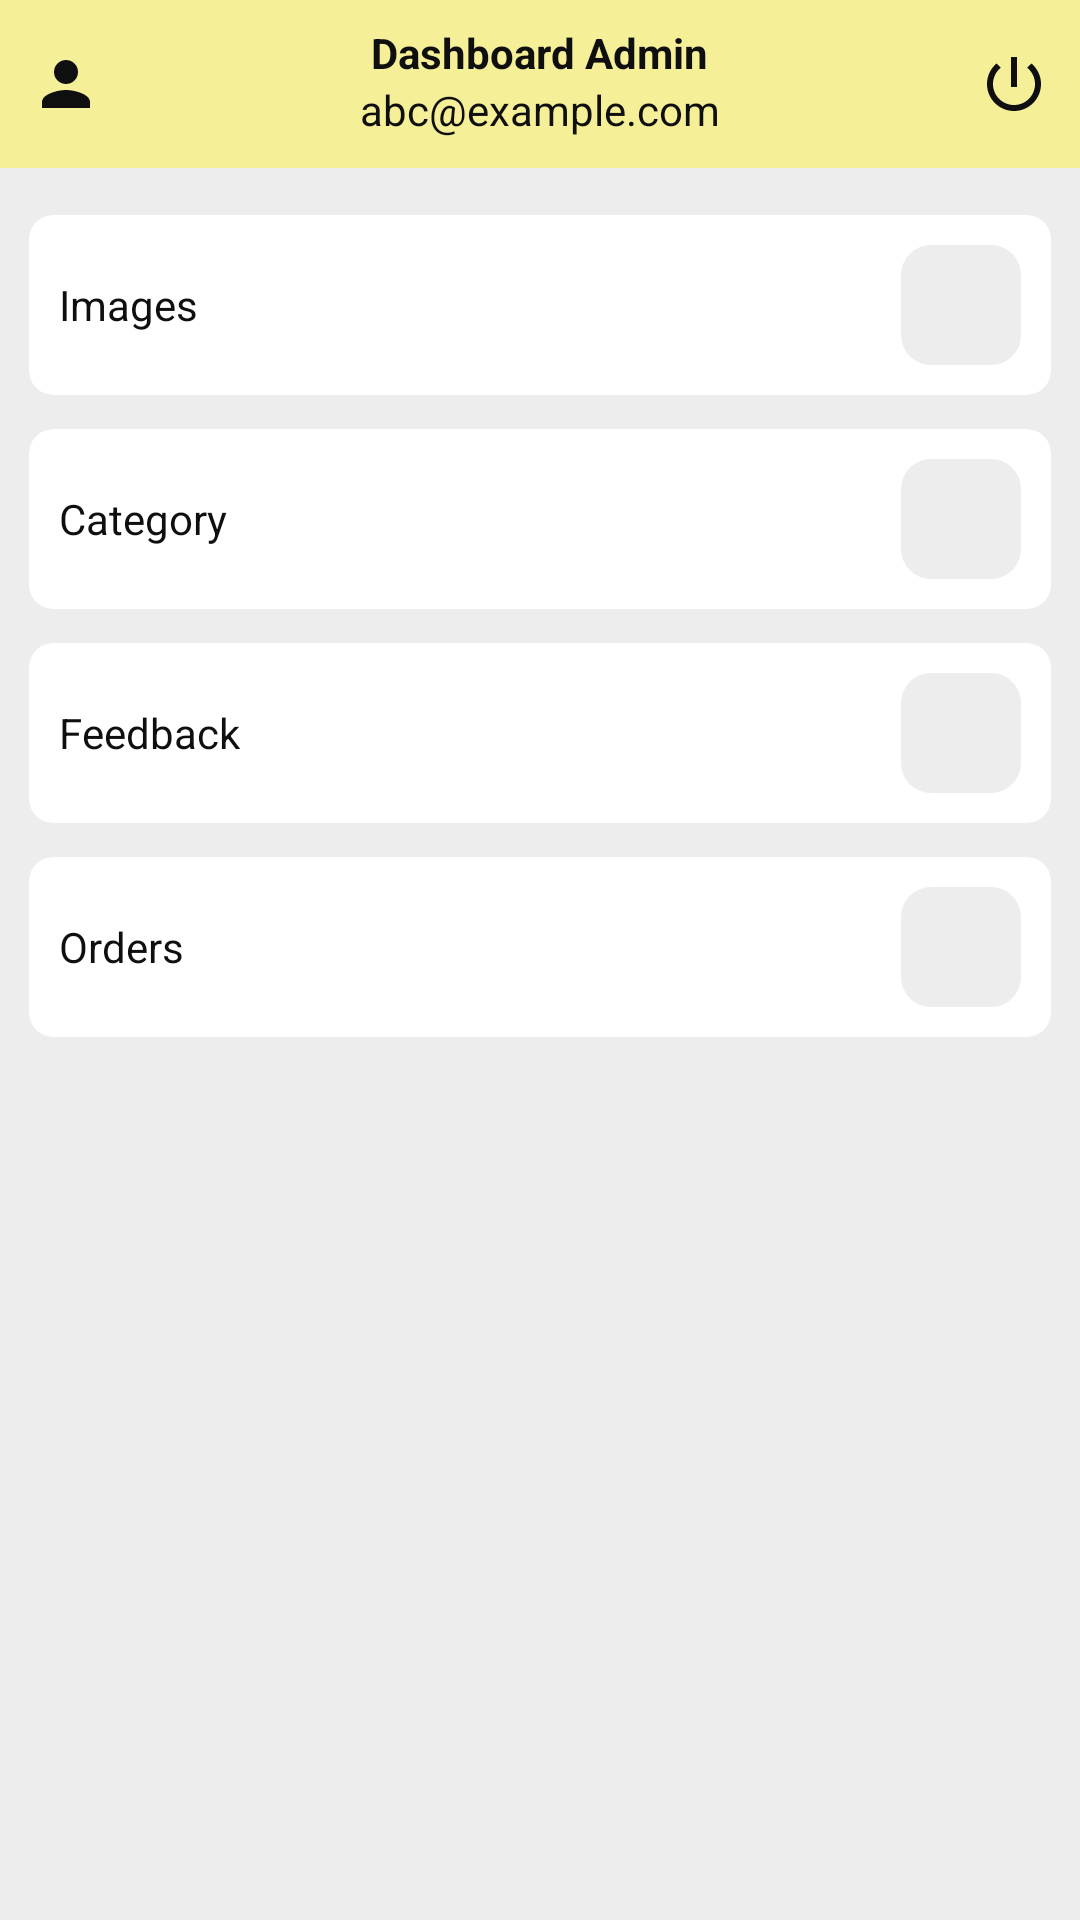

Icon bounding boxes for this 1080×1920 phone screenshot, format [left=x1, top=y1, right=x2, bottom=y2]:
person: [left=42, top=60, right=90, bottom=108]
